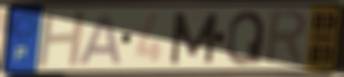4: (132, 10, 167, 67)
A: (76, 12, 124, 66)
H: (35, 8, 89, 71)
M: (167, 10, 221, 66)
Q: (224, 9, 268, 68)
R: (261, 7, 311, 69)
